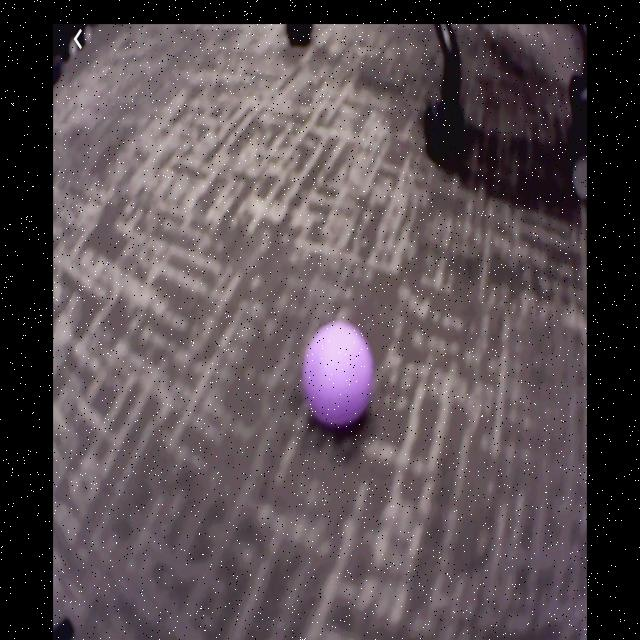ball: (305, 323, 372, 425)
